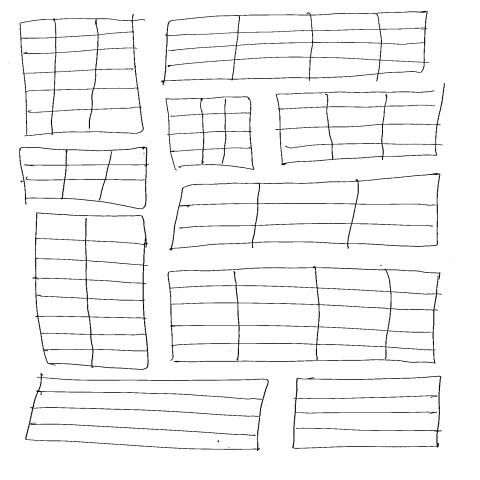Table: (166, 267, 441, 365), (168, 173, 442, 251), (162, 10, 429, 84), (24, 376, 270, 452), (35, 212, 150, 371), (20, 16, 147, 138), (276, 90, 448, 167), (292, 376, 443, 451), (17, 146, 149, 211), (166, 96, 256, 172)
